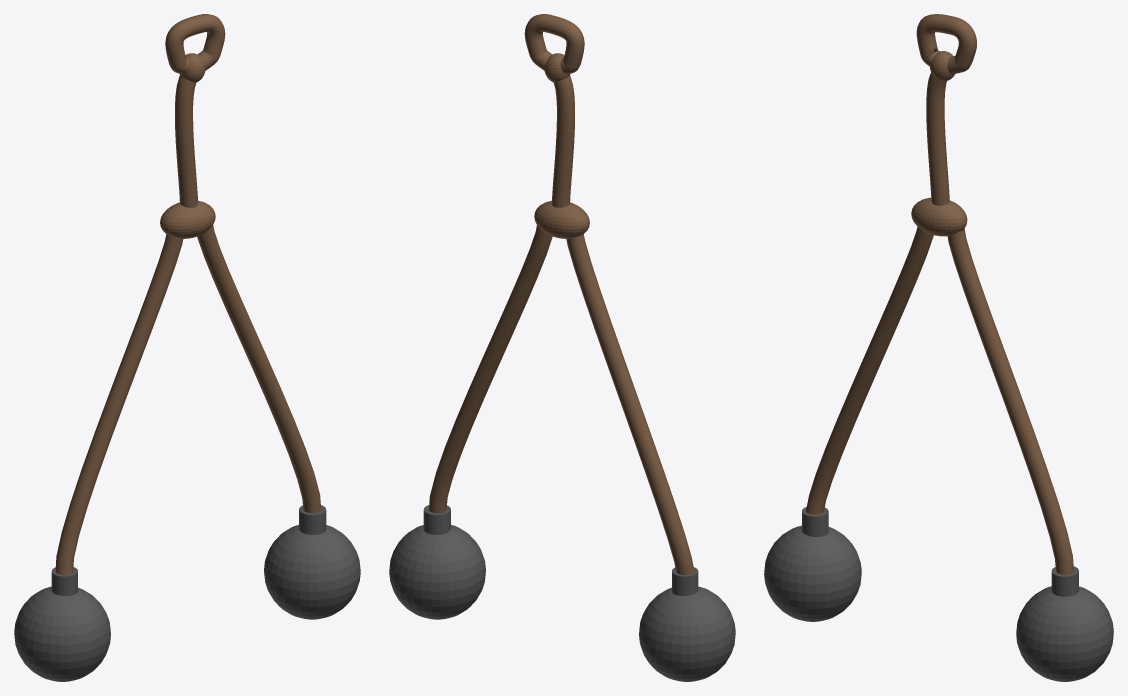
Rendered from BoleadoraV1.fbx.
3 renders of one model, left to right at view 1: azimuth 30°, elevation 25°; view 2: azimuth 150°, elevation 25°; view 3: azimuth 330°, elevation 25°, orthographic.
Parts seen in each view (by area): view 1: Curva Bezier, Esfera.001, Esfera, Esfera.002, Cilindro, Cilindro.001; view 2: Curva Bezier, Esfera.001, Esfera, Esfera.002, Cilindro, Cilindro.001; view 3: Curva Bezier, Esfera.001, Esfera, Esfera.002, Cilindro, Cilindro.001.
Part boxes in pixels (bbox=[...]): Curva Bezier: bbox=[55, 14, 321, 574]; Esfera.001: bbox=[14, 586, 110, 681]; Esfera: bbox=[264, 525, 360, 619]; Esfera.002: bbox=[160, 200, 215, 238]; Cilindro: bbox=[299, 505, 326, 534]; Cilindro.001: bbox=[51, 567, 77, 595]; Curva Bezier: bbox=[428, 14, 694, 574]; Esfera.001: bbox=[639, 586, 735, 681]; Esfera: bbox=[389, 525, 485, 619]; Esfera.002: bbox=[534, 200, 589, 238]; Cilindro: bbox=[423, 505, 450, 534]; Cilindro.001: bbox=[672, 567, 698, 595]; Curva Bezier: bbox=[806, 14, 1073, 574]; Esfera.001: bbox=[764, 525, 861, 621]; Esfera: bbox=[1016, 586, 1113, 681]; Esfera.002: bbox=[911, 197, 967, 236]; Cilindro: bbox=[1051, 566, 1078, 596]; Cilindro.001: bbox=[802, 507, 828, 536].
Size of the model in its own units: 794 by 1429 by 200.
